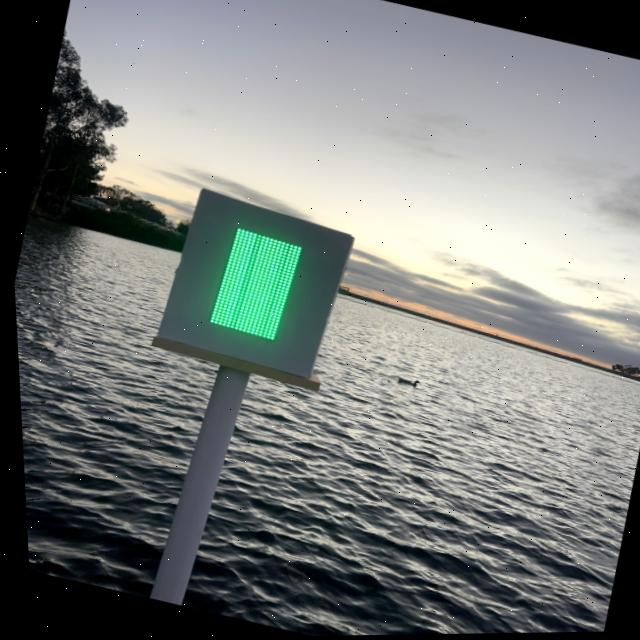led: (175, 200, 324, 366)
